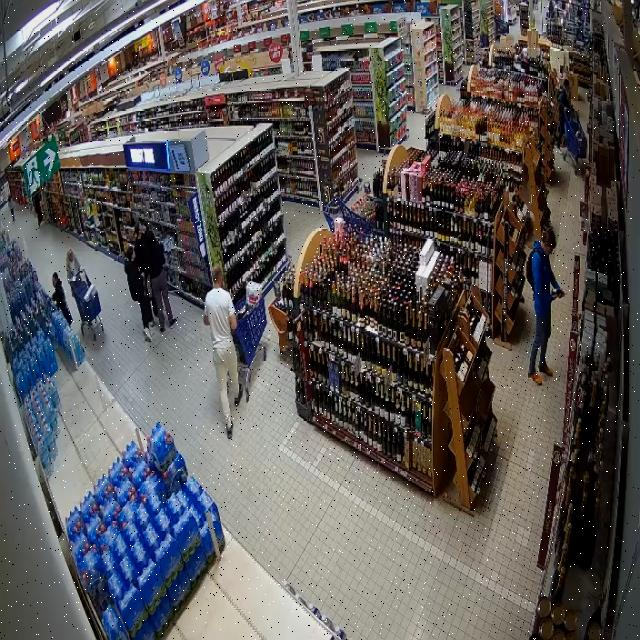article: (551, 287, 567, 295)
bags: (526, 247, 541, 291)
hands: (557, 289, 565, 297)
person: (204, 266, 242, 437), (529, 228, 564, 385), (144, 229, 175, 333), (125, 246, 152, 341), (134, 223, 158, 327), (52, 272, 73, 326), (557, 78, 570, 146), (67, 249, 81, 282)
